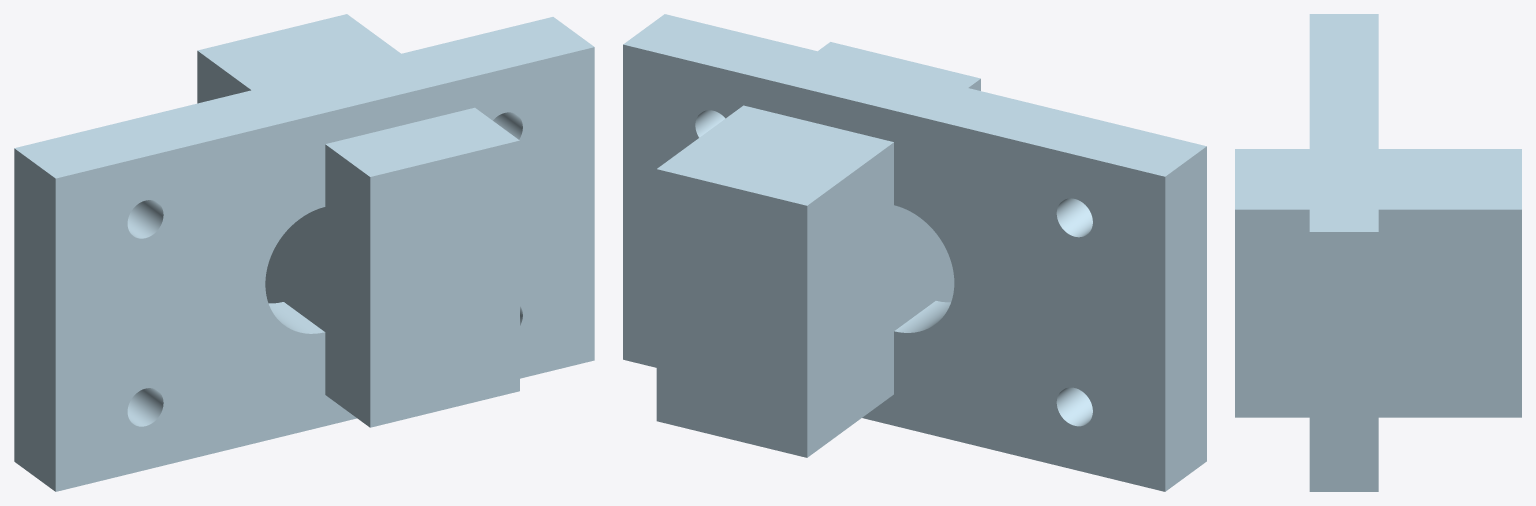
The picture shows the model from 3 angles, left to right: view 1: azimuth 30°, elevation 25°; view 2: azimuth 150°, elevation 25°; view 3: azimuth 270°, elevation 25°; orthographic projection. The views are drawn at different scales.
Visible parts, largest first — view 1: Part 1; view 2: Part 1; view 3: Part 1.
Boxes of the visible parts, bbox=[...] form: Part 1: bbox=[14, 14, 594, 491]; Part 1: bbox=[623, 14, 1206, 491]; Part 1: bbox=[1235, 14, 1521, 491].
Size of the model in its own units: 0.09 by 0.05 by 0.05.
